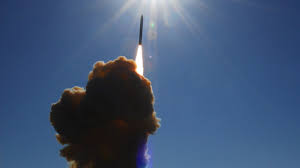ten_lua: (137, 9, 147, 49)
